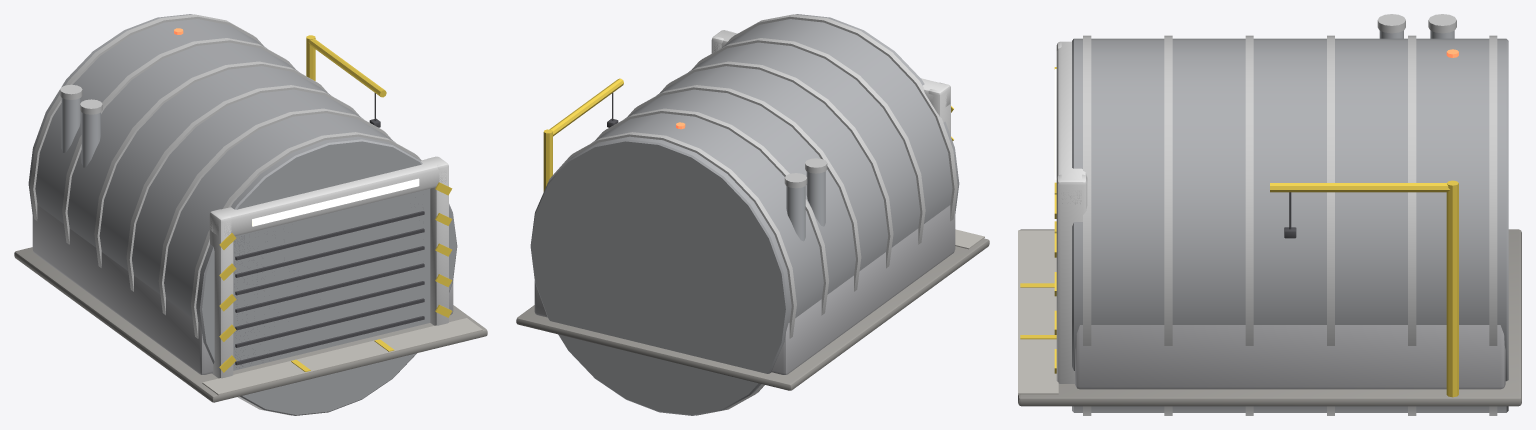
Rendered from vehicle_factory.glb.
The picture shows the model from 3 angles, left to right: view 1: azimuth 30°, elevation 25°; view 2: azimuth 150°, elevation 25°; view 3: azimuth 270°, elevation 25°; orthographic projection. The views are drawn at different scales.
Parts seen in each view (by area): view 1: vehicle_factory; view 2: vehicle_factory; view 3: vehicle_factory.
Part boxes in pixels (x1,y1,x2,y2): vehicle_factory: [14, 14, 487, 415]; vehicle_factory: [516, 14, 989, 415]; vehicle_factory: [1018, 14, 1521, 415].
Bounding box in the file's own units: 3.96 × 3.77 × 4.96.
